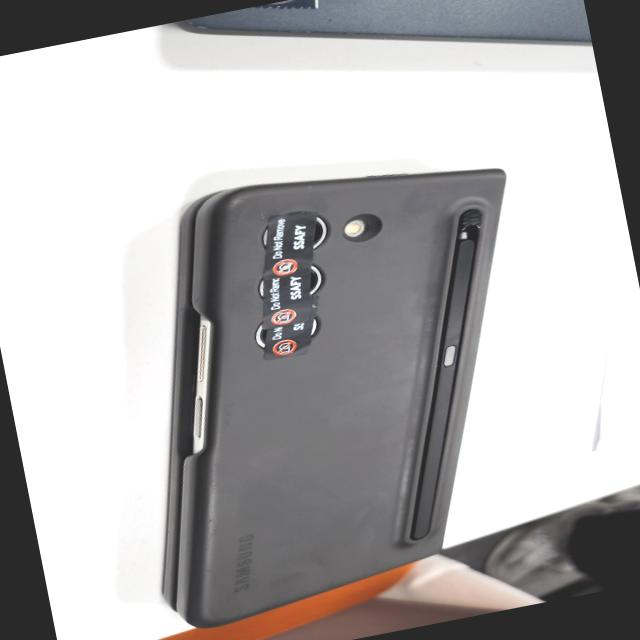phone: (84, 136, 580, 635)
sticker: (251, 205, 326, 281), (254, 300, 328, 366), (251, 249, 322, 315)
